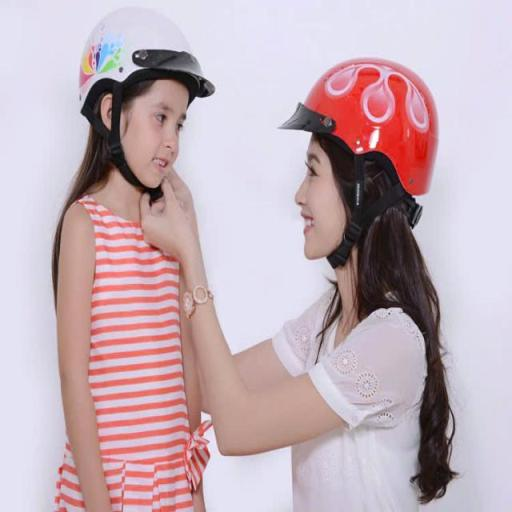with helmet: (278, 54, 440, 200), (78, 4, 218, 122)
